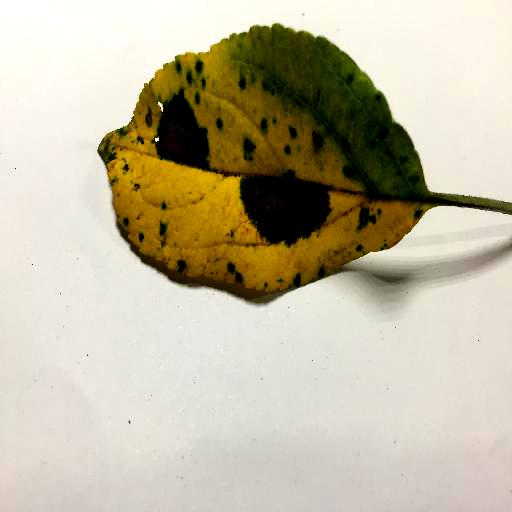Brown_Spot: (240, 180, 327, 239), (153, 101, 211, 166)
